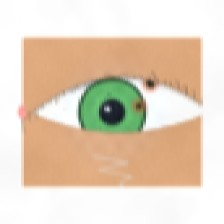foreign_body_visible: (128, 66, 172, 101)
